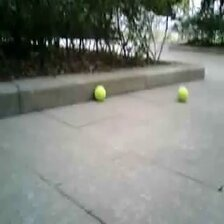tennis: (175, 86, 188, 101), (94, 84, 106, 100)
